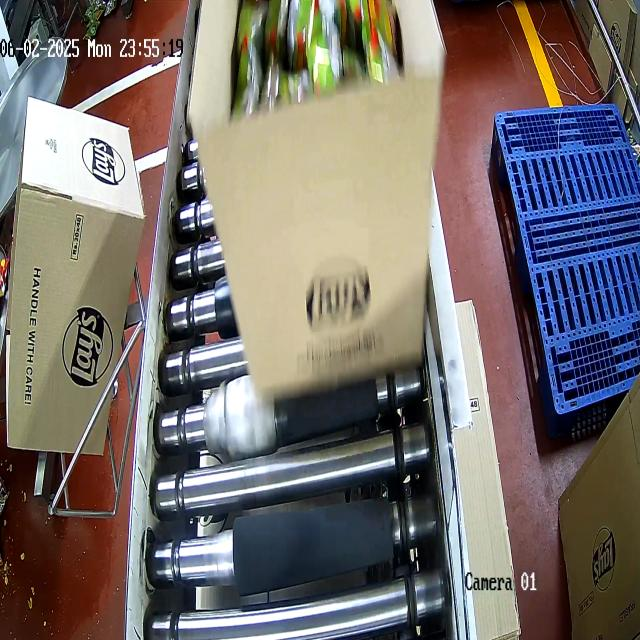YOGURT_HERB: (227, 0, 407, 104)
